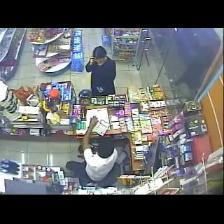person: (66, 117, 117, 185), (86, 47, 116, 95)
